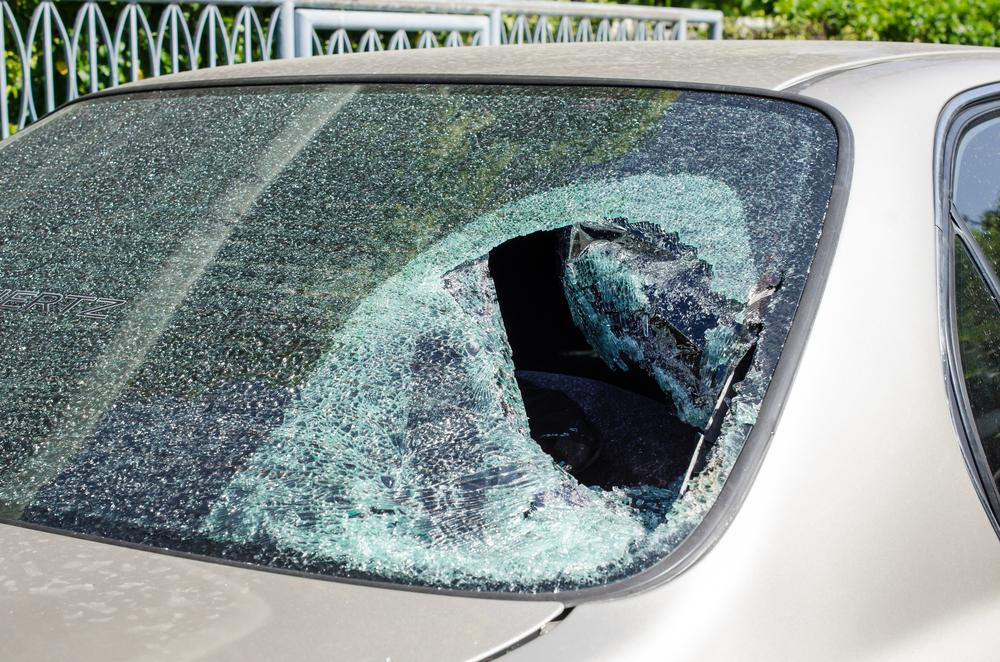glass shatter: (0, 83, 839, 593)
